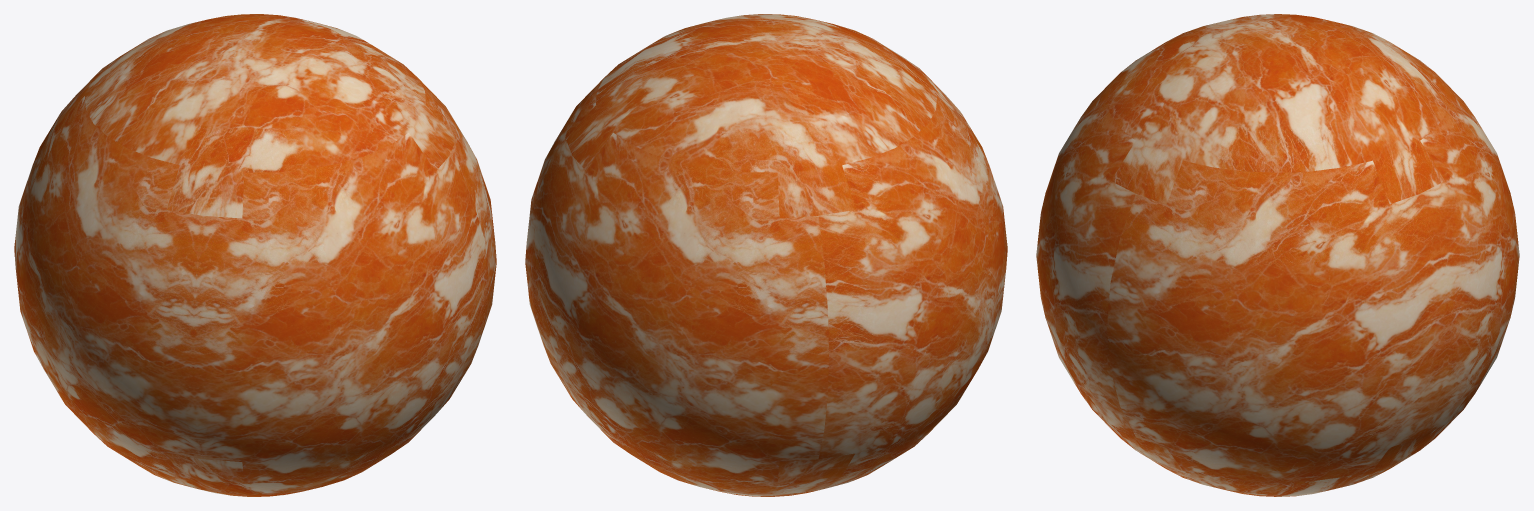
Rendered from marble-04.glb.
The picture shows the model from 3 angles, left to right: view 1: azimuth 30°, elevation 25°; view 2: azimuth 150°, elevation 25°; view 3: azimuth 270°, elevation 25°; orthographic projection.
Visible parts, largest first — view 1: Icosphere; view 2: Icosphere; view 3: Icosphere.
Part boxes in pixels (bbox=[...]): Icosphere: bbox=[14, 14, 496, 496]; Icosphere: bbox=[525, 14, 1007, 496]; Icosphere: bbox=[1036, 14, 1519, 496].
Bounding box in the file's own units: 1 × 1 × 1.
1 material, 1 textured.
